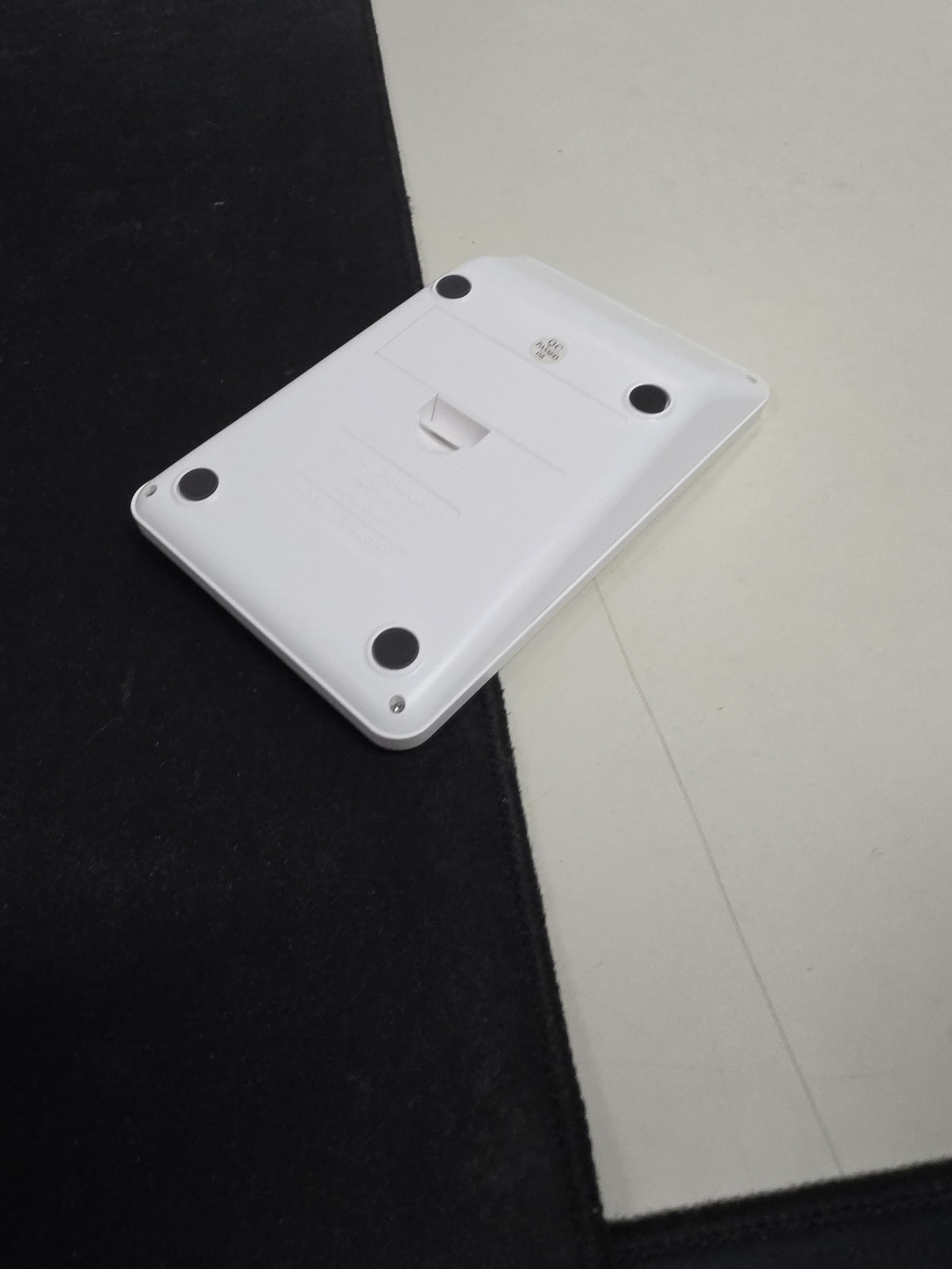calculator: (129, 255, 771, 752)
